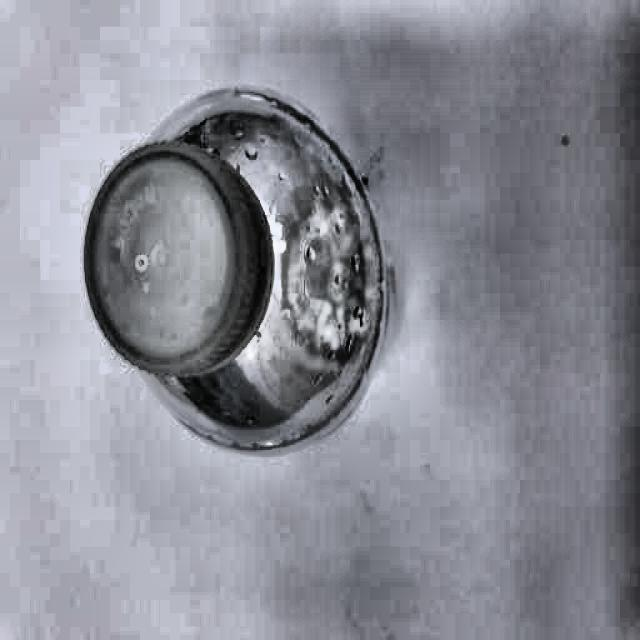plastic: (80, 86, 392, 452)
